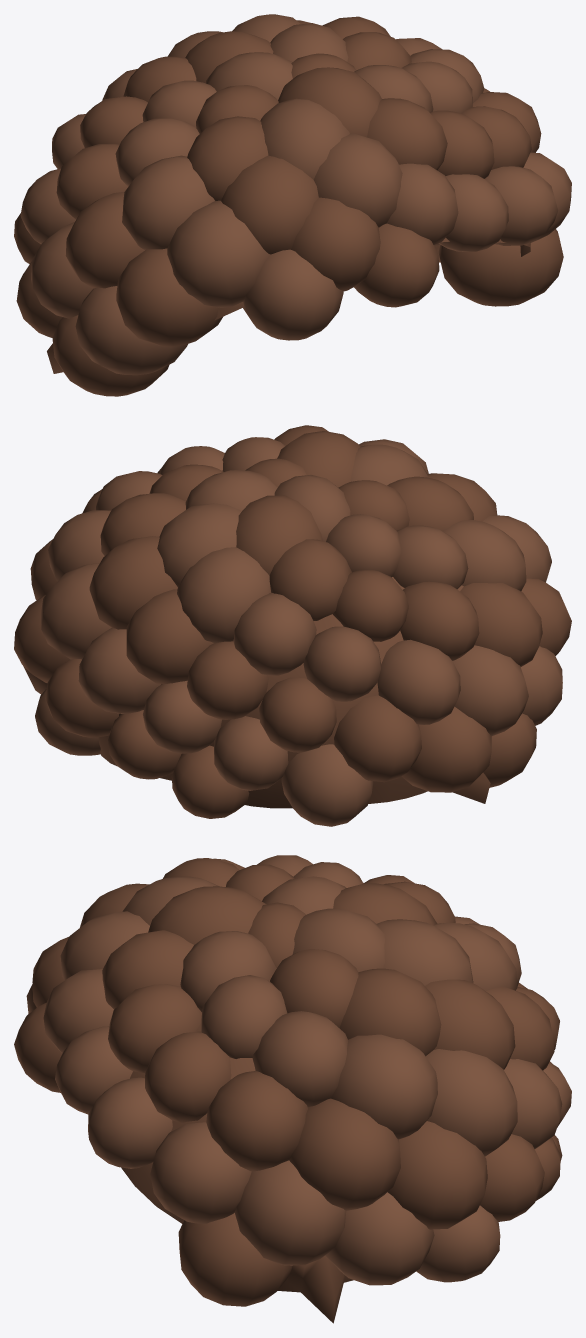
3 renders of one model, top to bottom at view 1: azimuth 30°, elevation 25°; view 2: azimuth 150°, elevation 25°; view 3: azimuth 270°, elevation 25°, orthographic. The views are drawn at different scales.
Visible parts, largest first — view 1: Curly Fluffy; view 2: Curly Fluffy; view 3: Curly Fluffy.
Boxes of the visible parts, <box> form: Curly Fluffy: <box>14,14,571,396</box>; Curly Fluffy: <box>14,425,571,826</box>; Curly Fluffy: <box>14,855,571,1323</box>.
Size of the model in its own units: 1.19 by 0.6643 by 1.05.
